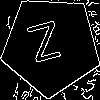Z: (26, 20, 66, 72)
